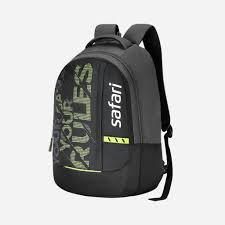backpack: (48, 22, 173, 201)
